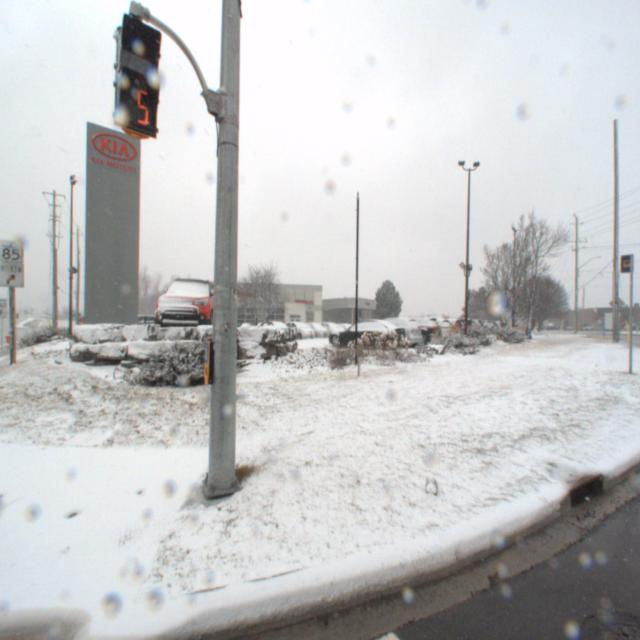Car: (144, 265, 223, 331), (321, 318, 409, 355), (348, 317, 424, 353), (370, 315, 442, 352), (388, 318, 454, 349), (252, 318, 296, 341), (278, 318, 316, 341), (311, 320, 349, 340), (293, 320, 330, 339)
